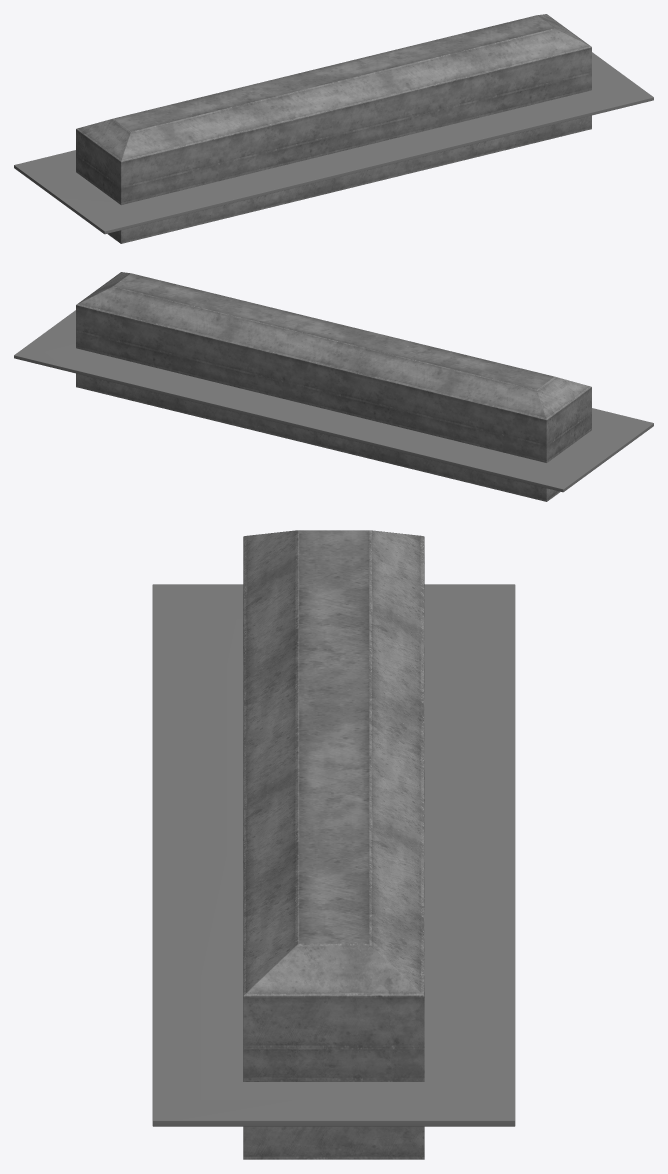
File: SM_Bench_02.fbx
3 views of the same model, one above another, from view 1: azimuth 30°, elevation 25°; view 2: azimuth 150°, elevation 25°; view 3: azimuth 270°, elevation 25° (orthographic). The views are drawn at different scales.
Visible parts, largest first — view 1: SM_Wall_527, pCube1131; view 2: SM_Wall_527, pCube1131; view 3: pCube1131, SM_Wall_527.
Part boxes in pixels (x1=…): SM_Wall_527: x1=76, y1=14, x2=591, y2=243; pCube1131: x1=14, y1=52, x2=653, y2=234; SM_Wall_527: x1=76, y1=272, x2=591, y2=501; pCube1131: x1=14, y1=310, x2=653, y2=492; pCube1131: x1=152, y1=584, x2=515, y2=1126; SM_Wall_527: x1=243, y1=530, x2=424, y2=1159.
Bounding box in the file's own units: 700 × 117 × 200.
